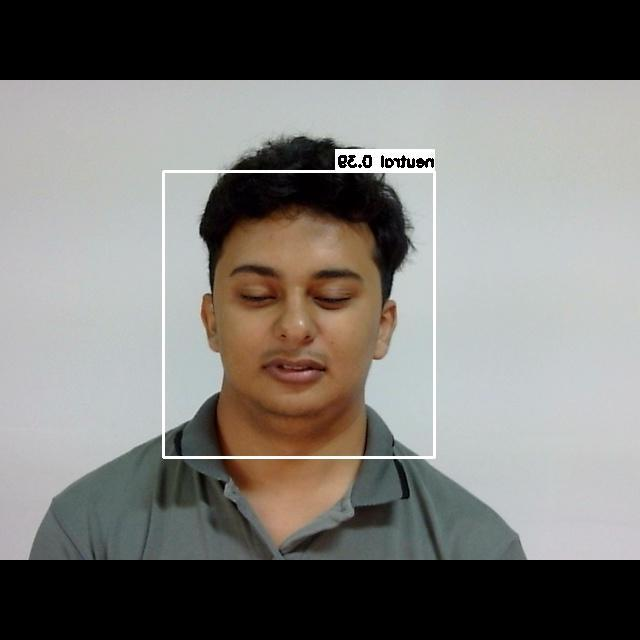Sad: (203, 245, 379, 396)
